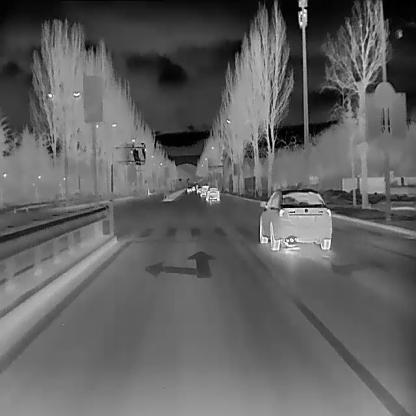car: (258, 187, 333, 249), (204, 185, 219, 201), (199, 184, 209, 196), (186, 185, 192, 192), (196, 186, 201, 194), (191, 185, 196, 190), (194, 181, 196, 184)
